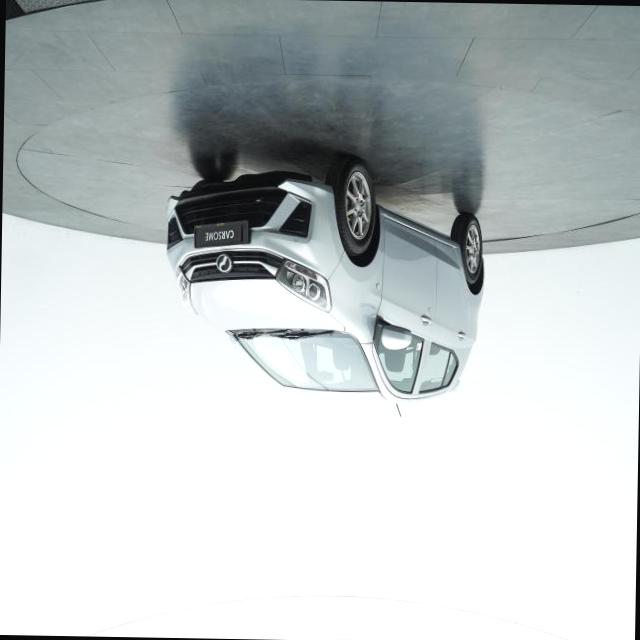PeroduaAxia: (161, 151, 489, 418)
